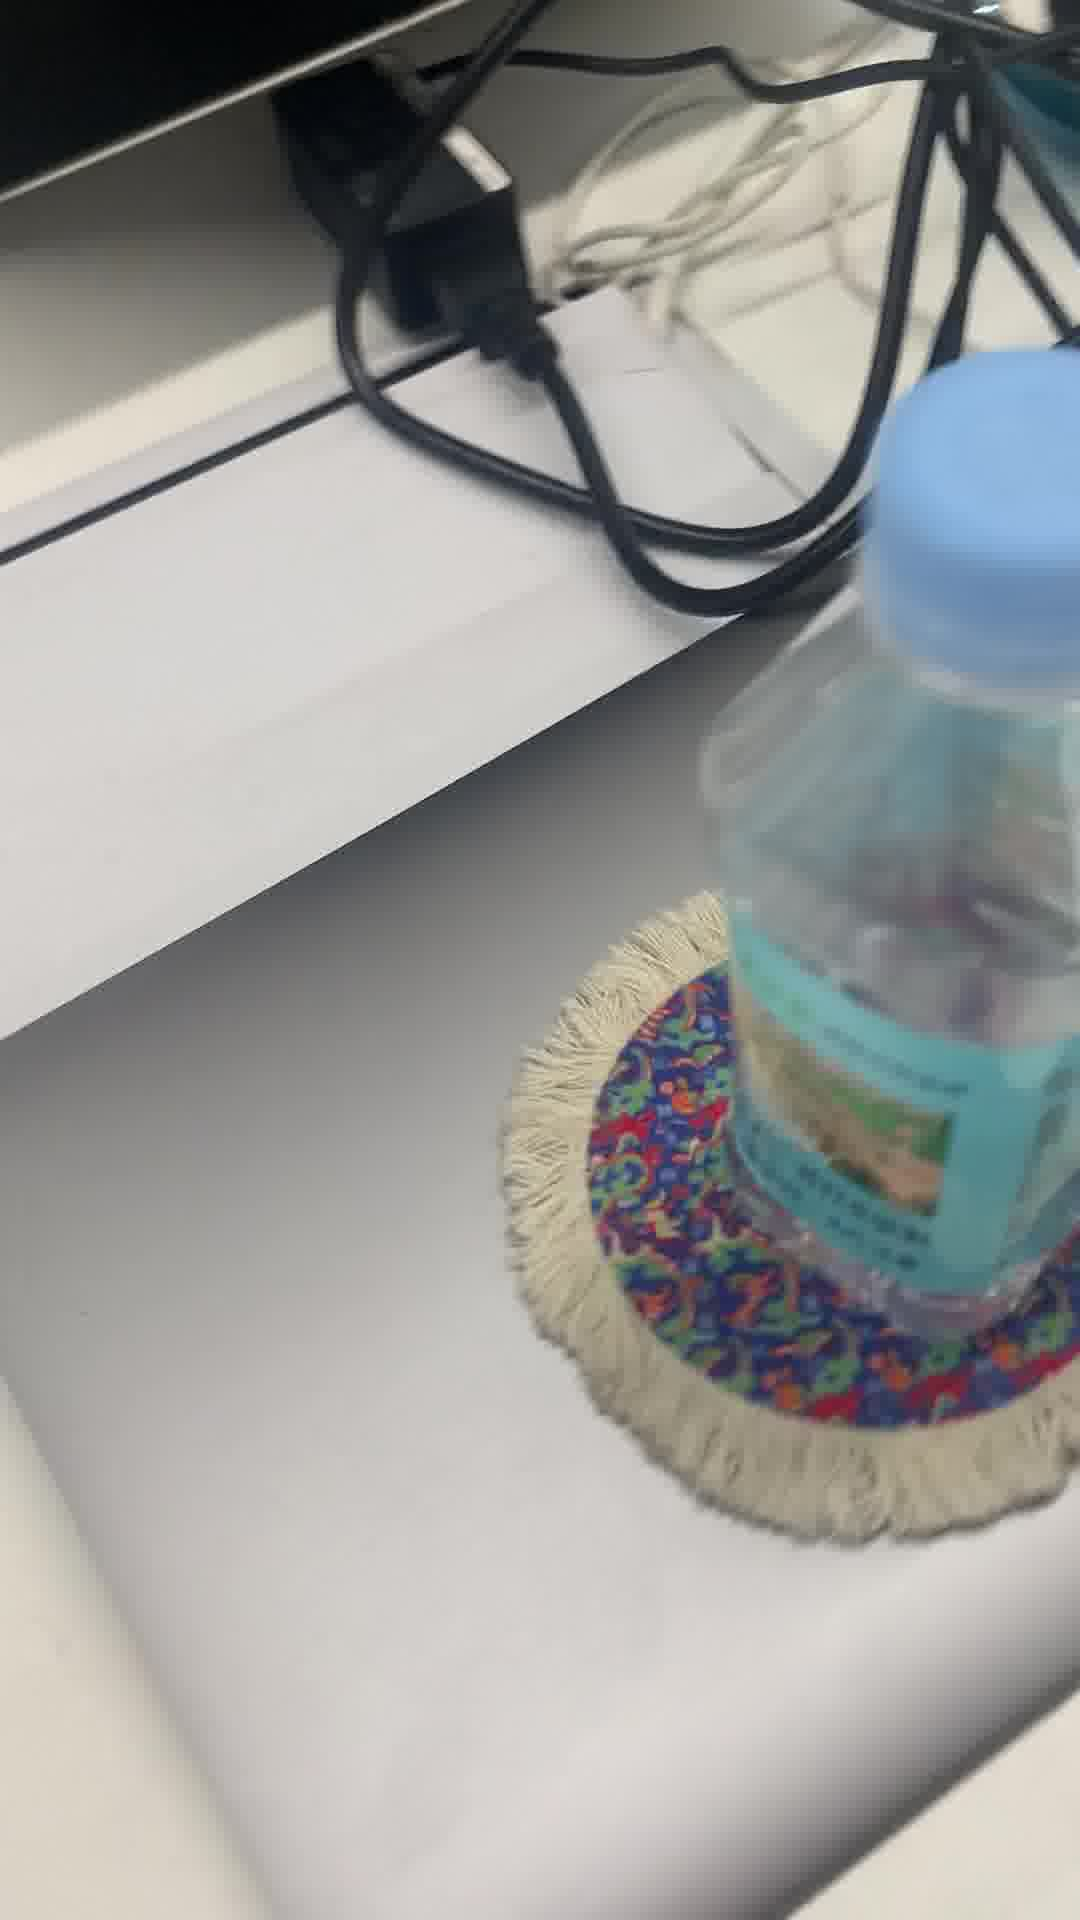水瓶: (702, 349, 1080, 1354)
